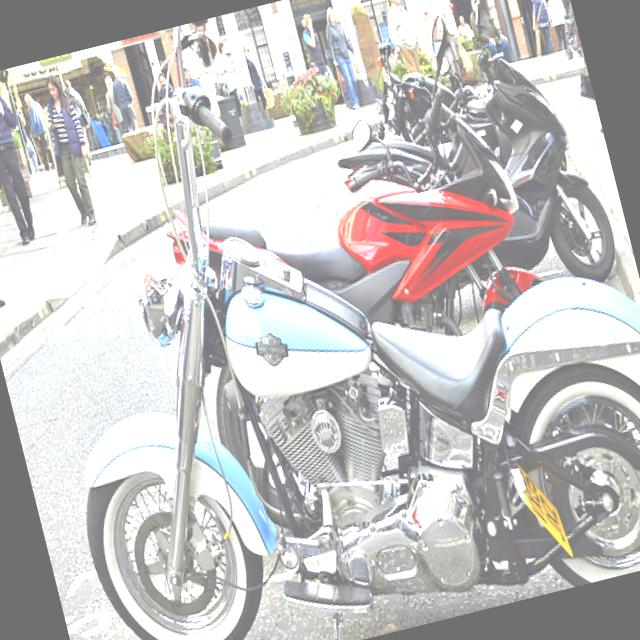Vehicle: (0, 0, 640, 640), (132, 8, 551, 400), (322, 44, 626, 338), (348, 9, 458, 137), (432, 38, 529, 138)
